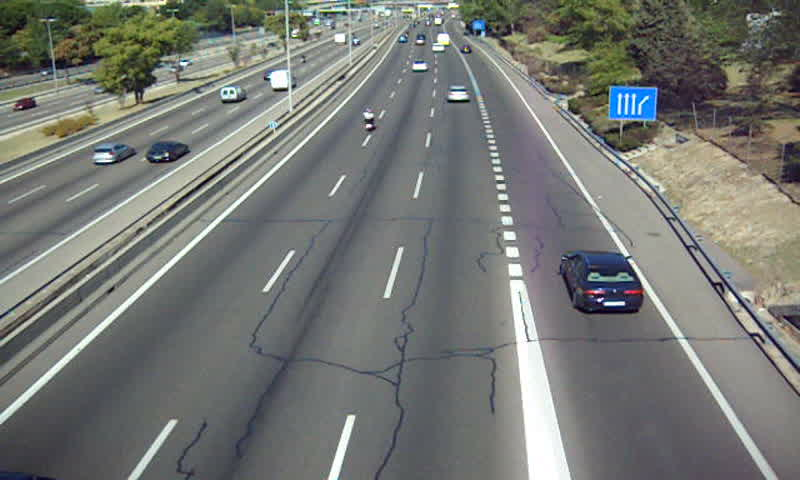car: (561, 252, 642, 312), (446, 85, 470, 102), (410, 59, 429, 73)
motorcycle: (360, 107, 377, 133)
